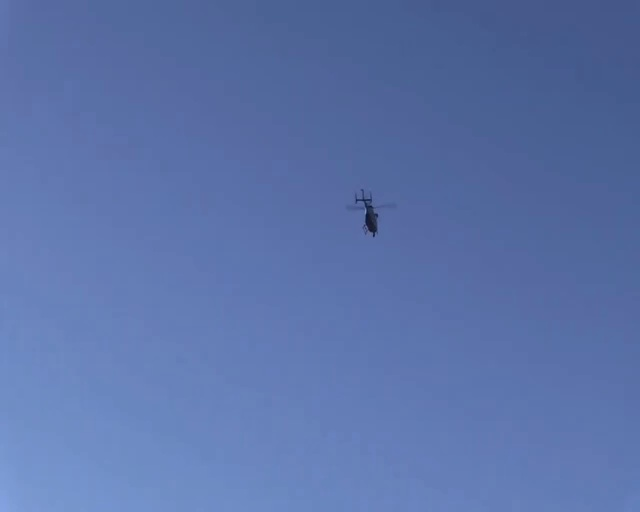HELICOPTER: (346, 187, 397, 237)
